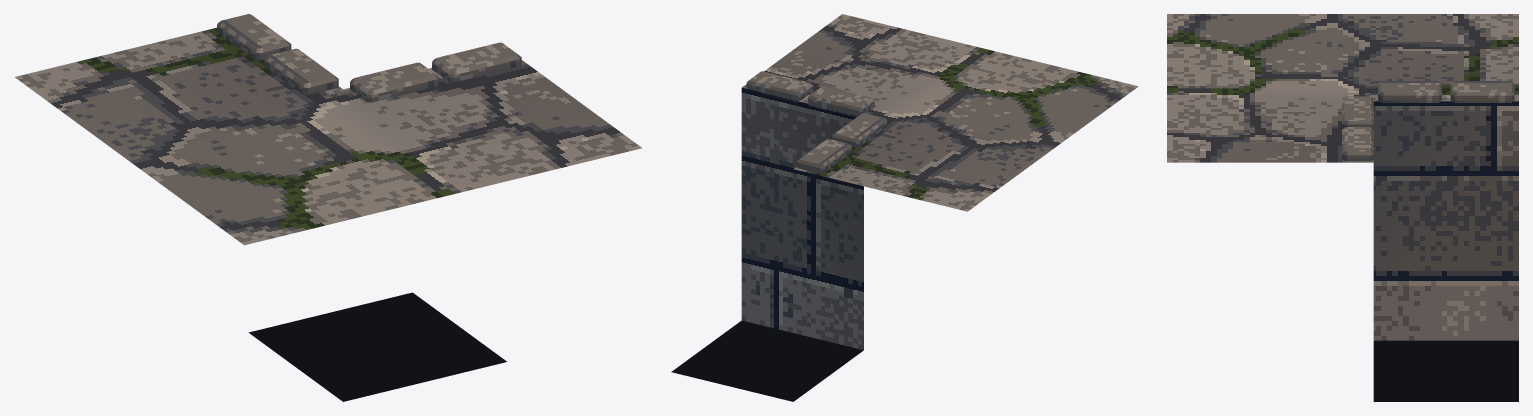
The model's file is dgn.pit__corner.glb.
3 views of the same model, side by side, from view 1: azimuth 30°, elevation 25°; view 2: azimuth 150°, elevation 25°; view 3: azimuth 270°, elevation 25° (orthographic). The views are drawn at different scales.
Parts seen in each view (by area): view 1: kit_shell_floor, kit_card_void, kit_rim; view 2: kit_shell_floor, kit_shell_shaft, kit_card_void, kit_rim; view 3: kit_shell_floor, kit_shell_shaft, kit_card_void, kit_rim.
Part boxes in pixels (<box>): kit_shell_floor: <box>15,27,642,245</box>; kit_card_void: <box>248,292,506,401</box>; kit_rim: <box>217,14,521,102</box>; kit_shell_floor: <box>742,14,1138,211</box>; kit_shell_shaft: <box>741,88,863,349</box>; kit_card_void: <box>671,320,863,401</box>; kit_rim: <box>746,71,887,173</box>; kit_shell_floor: <box>1167,14,1518,162</box>; kit_shell_shaft: <box>1373,101,1518,340</box>; kit_card_void: <box>1373,340,1518,401</box>; kit_rim: <box>1342,81,1514,160</box>.
Bounding box in the file's own units: 4 × 3.1 × 4.
Materials: 4 (4 with a texture image).
